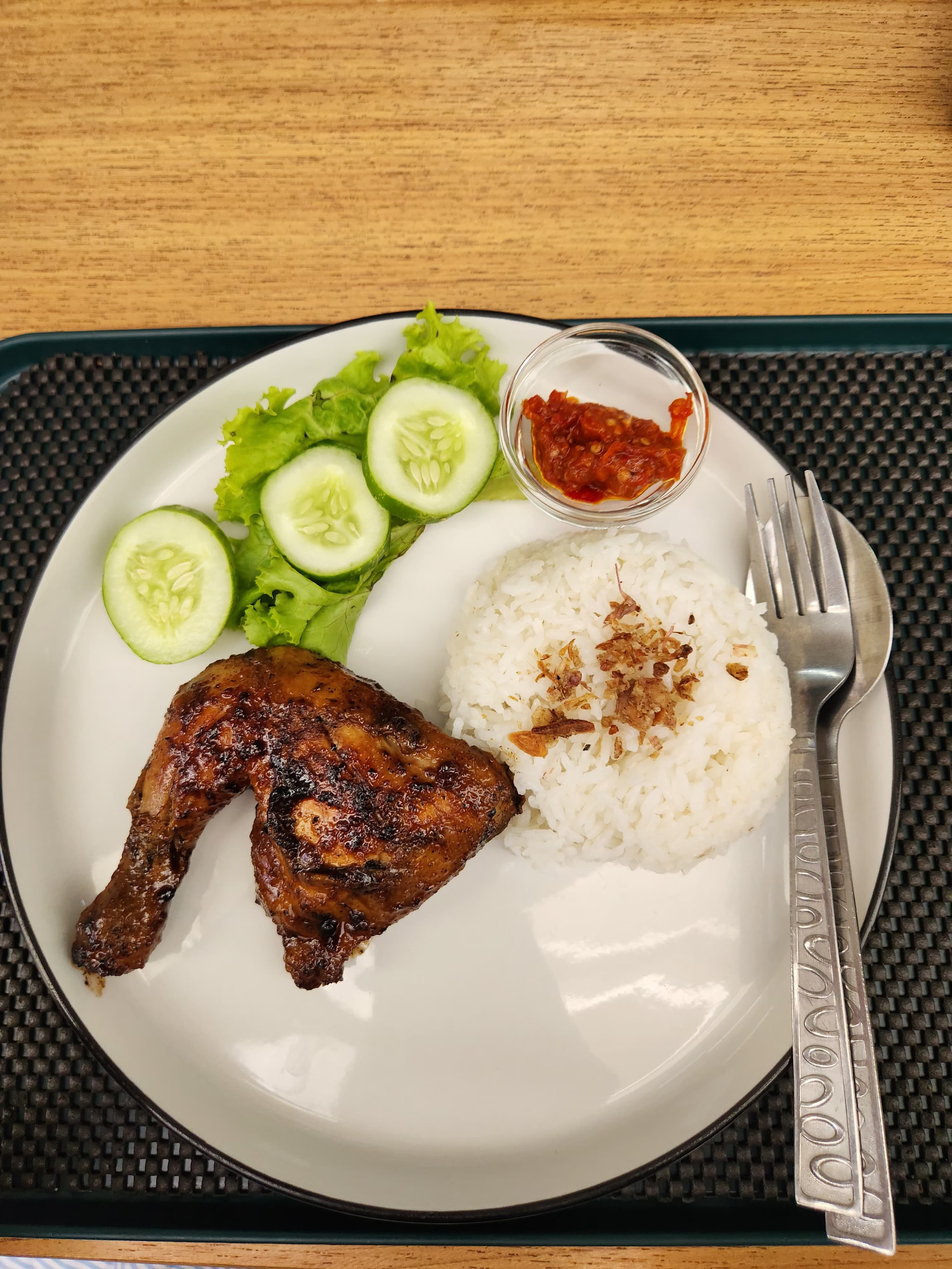buah_sayur_lainnya: (122, 374, 473, 668)
daging: (79, 661, 487, 1052)
makanan_berpati: (455, 565, 800, 839)
